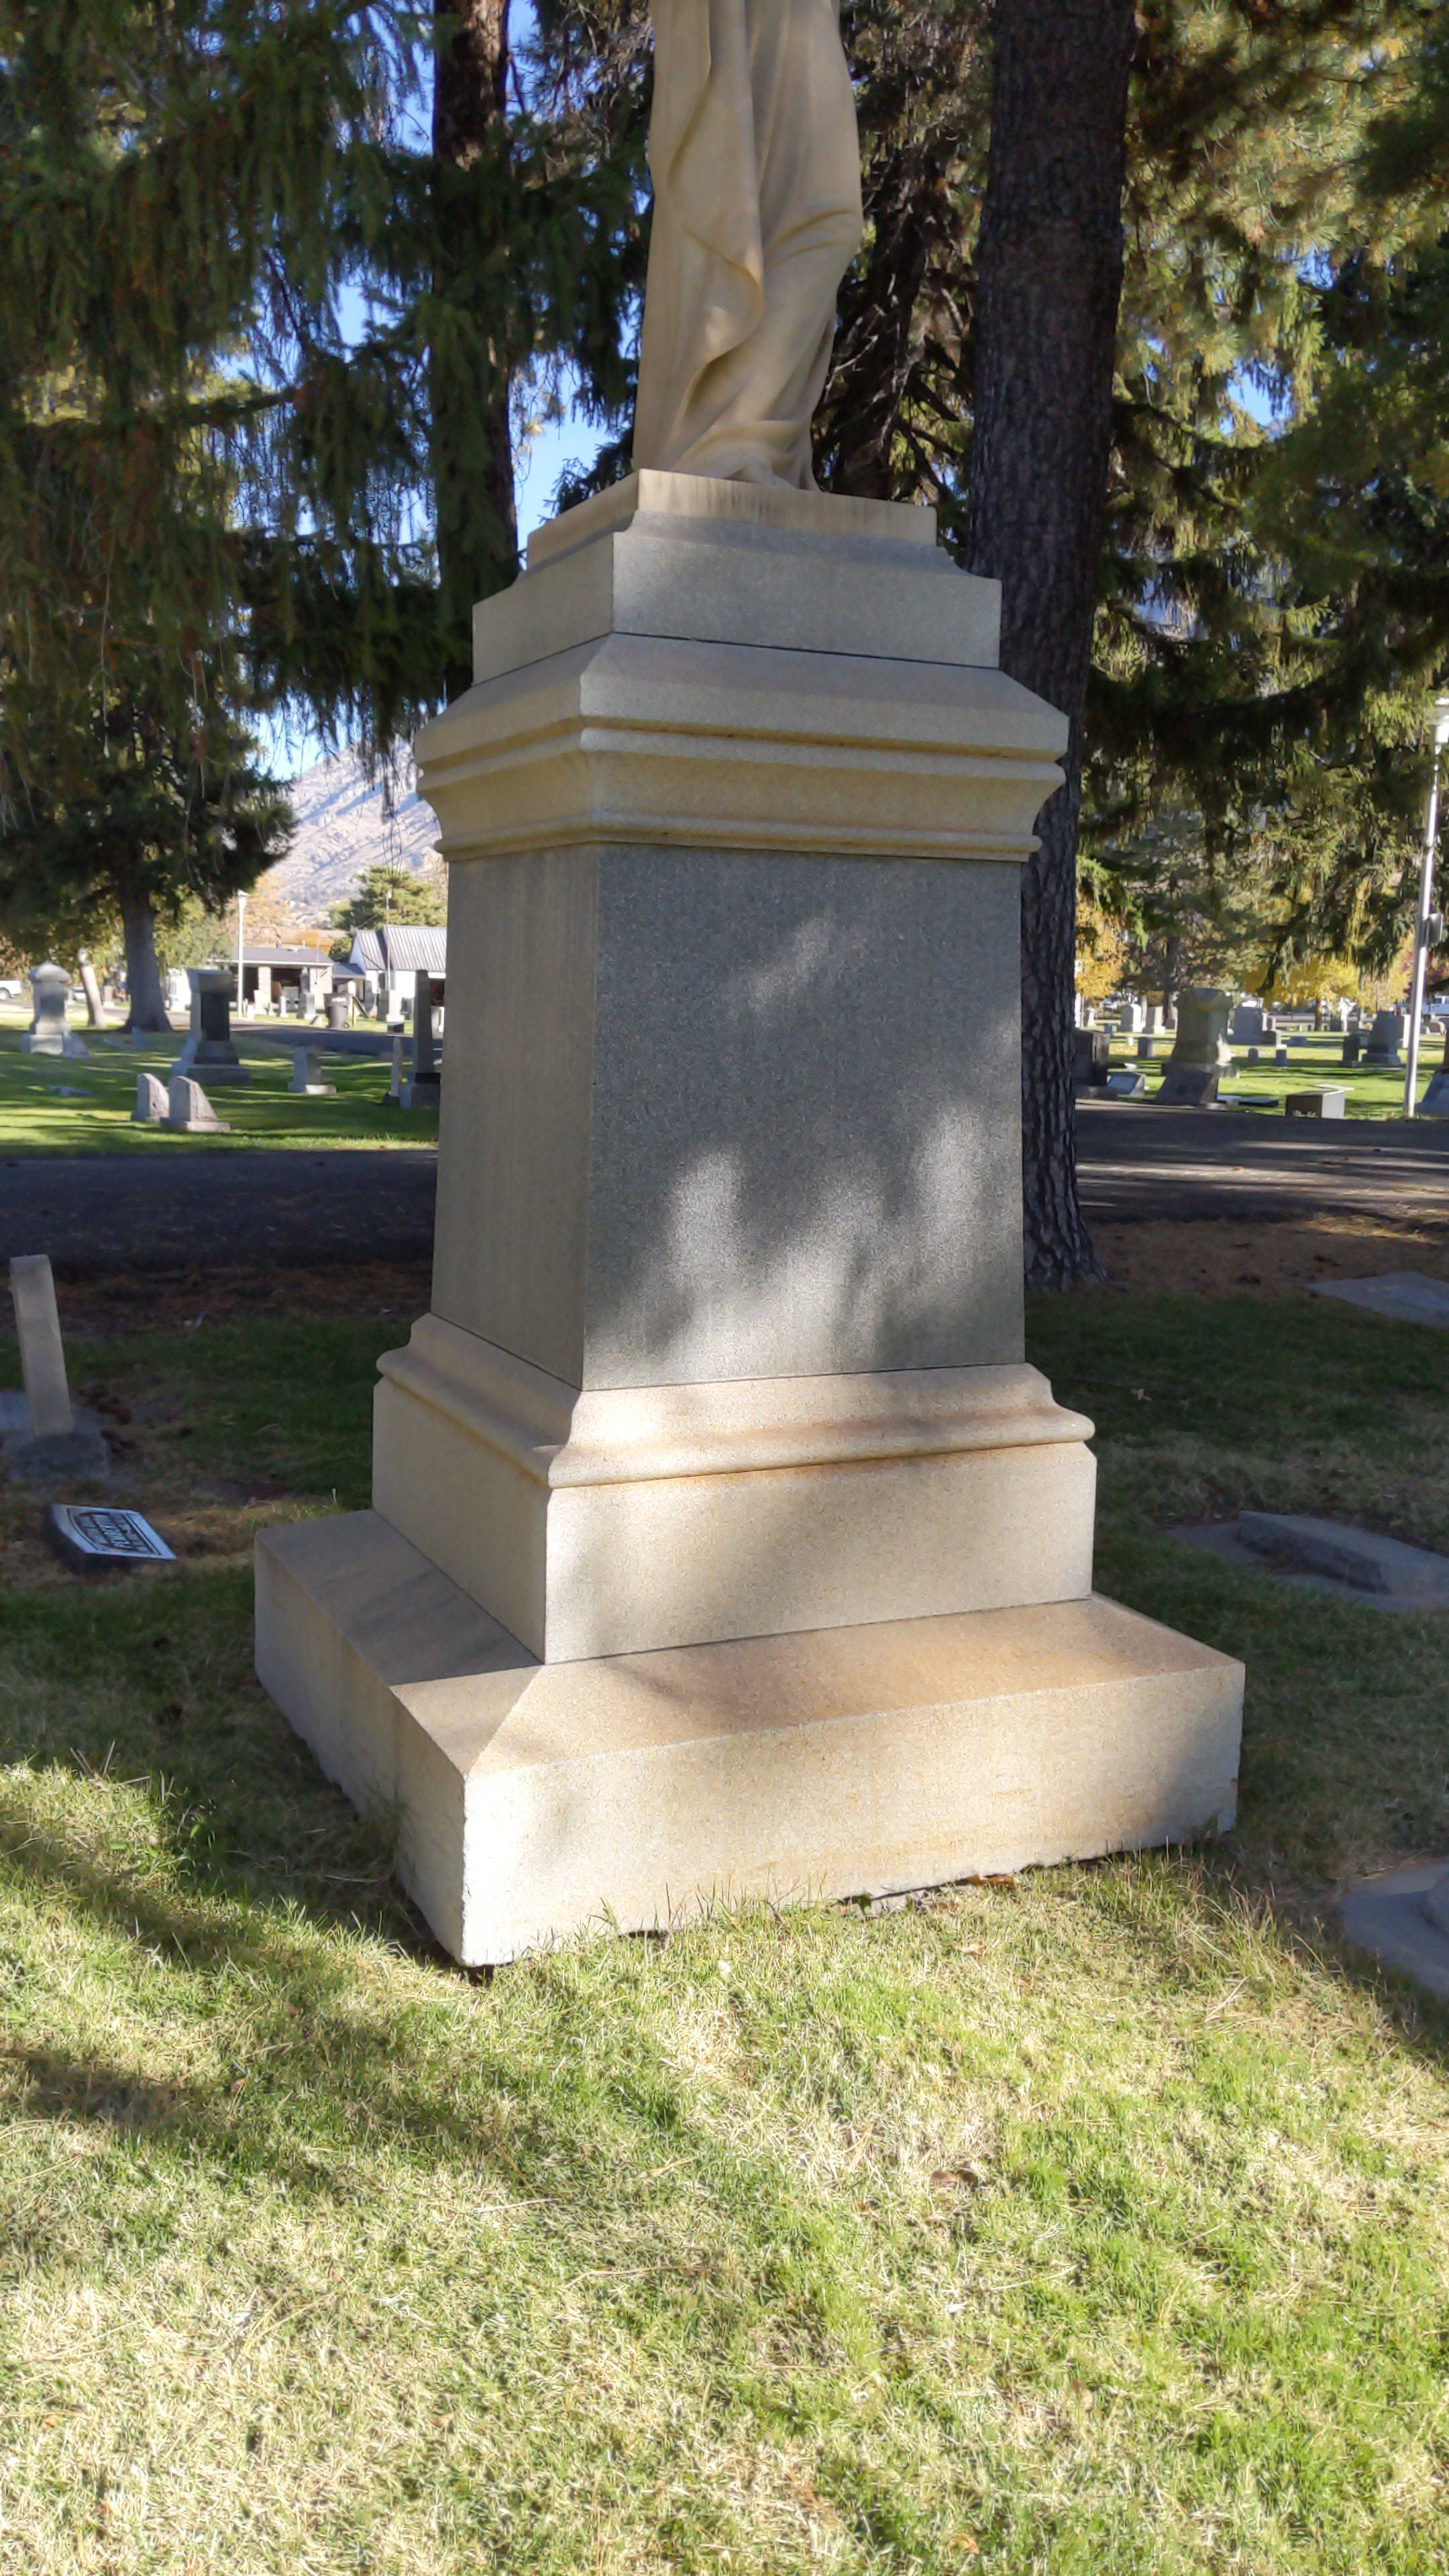obelisk: (366, 488, 1099, 1658)
